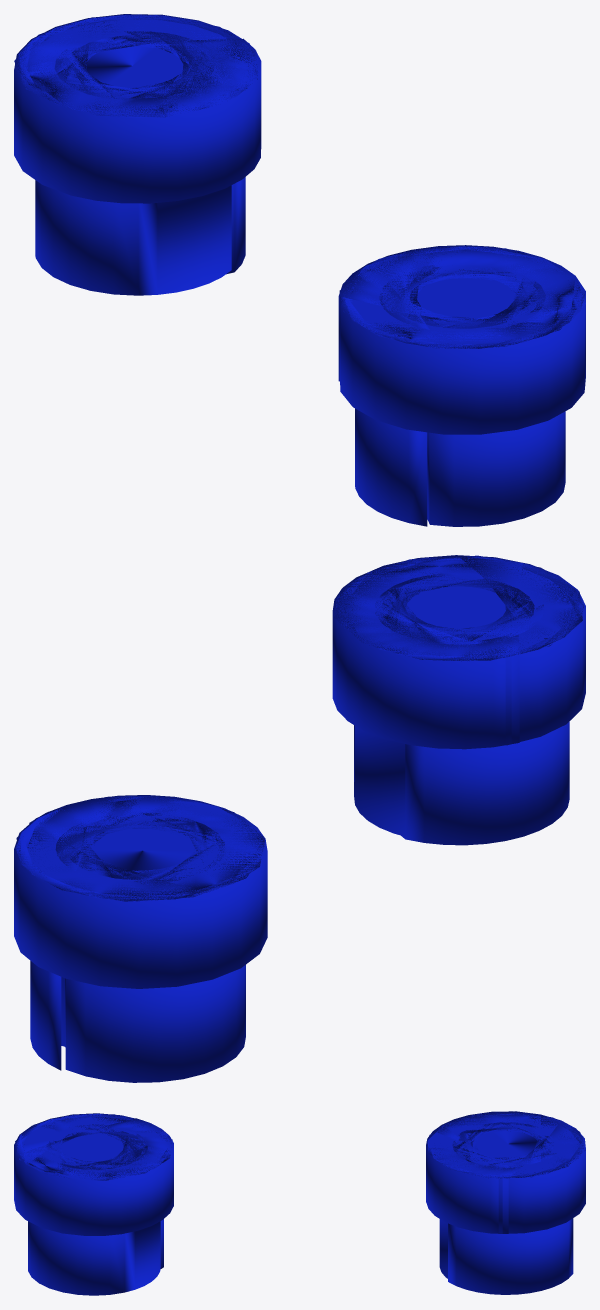
File: tuyeau_element_000001.obj
3 views of the same model, one above another, from view 1: azimuth 30°, elevation 25°; view 2: azimuth 150°, elevation 25°; view 3: azimuth 270°, elevation 25° (orthographic). The views are drawn at different scales.
Parts seen in each view (by area): view 1: tuyeau2_Cube.017, tuyeau1_Cube.014; view 2: tuyeau2_Cube.017, tuyeau1_Cube.014; view 3: tuyeau1_Cube.014, tuyeau2_Cube.017.
Part boxes in pixels (x1,y1,x2,y2): tuyeau2_Cube.017: (338, 245, 585, 526); tuyeau1_Cube.014: (14, 14, 261, 295); tuyeau2_Cube.017: (332, 555, 585, 845); tuyeau1_Cube.014: (14, 795, 267, 1082); tuyeau1_Cube.014: (426, 1111, 585, 1294); tuyeau2_Cube.017: (14, 1113, 173, 1295).
Bounding box in the file's own units: 3626 × 2917 × 12565.
